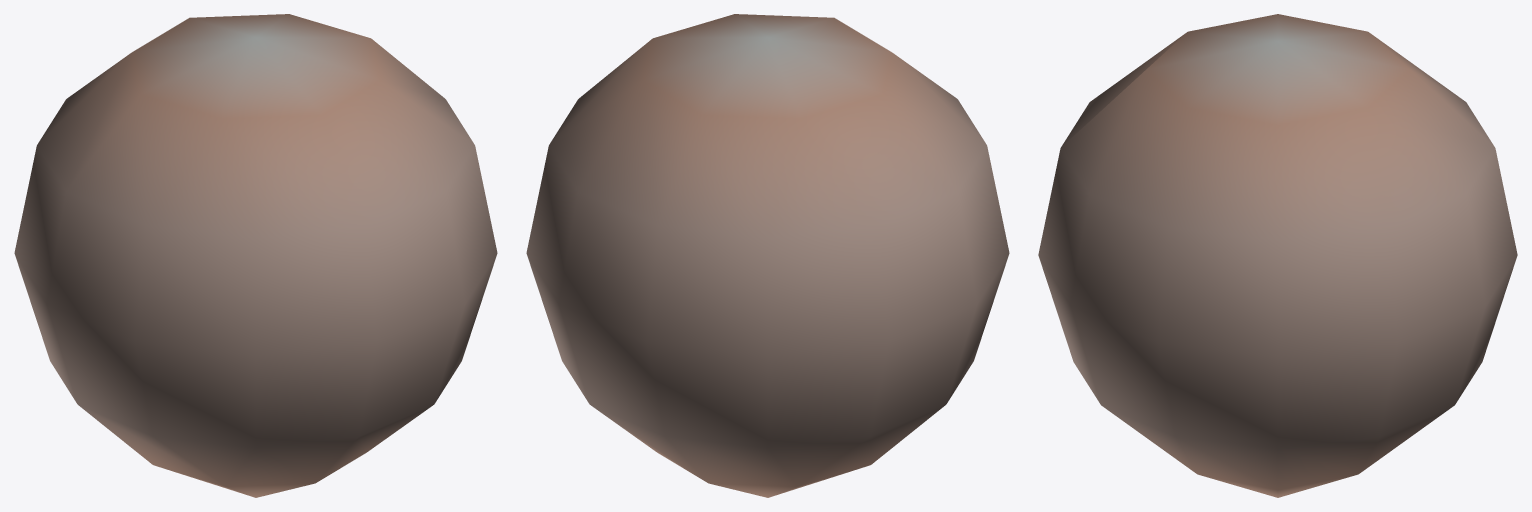
The picture shows the model from 3 angles, left to right: view 1: azimuth 30°, elevation 25°; view 2: azimuth 150°, elevation 25°; view 3: azimuth 270°, elevation 25°; orthographic projection.
Parts seen in each view (by area): view 1: G:\FFXIV-MapTools\exports\s1f3\bg\ffxiv\sea_s1\fld\s1f3\bgpa; view 2: G:\FFXIV-MapTools\exports\s1f3\bg\ffxiv\sea_s1\fld\s1f3\bgpa; view 3: G:\FFXIV-MapTools\exports\s1f3\bg\ffxiv\sea_s1\fld\s1f3\bgpa.
Boxes of the visible parts, x1,y1,x2,y2 form: G:\FFXIV-MapTools\exports\s1f3\bg\ffxiv\sea_s1\fld\s1f3\bgpa: (14,14,497,497); G:\FFXIV-MapTools\exports\s1f3\bg\ffxiv\sea_s1\fld\s1f3\bgpa: (526,14,1009,497); G:\FFXIV-MapTools\exports\s1f3\bg\ffxiv\sea_s1\fld\s1f3\bgpa: (1038,14,1517,497).
Bounding box in the file's own units: 0.7109 × 0.7476 × 0.7109.
